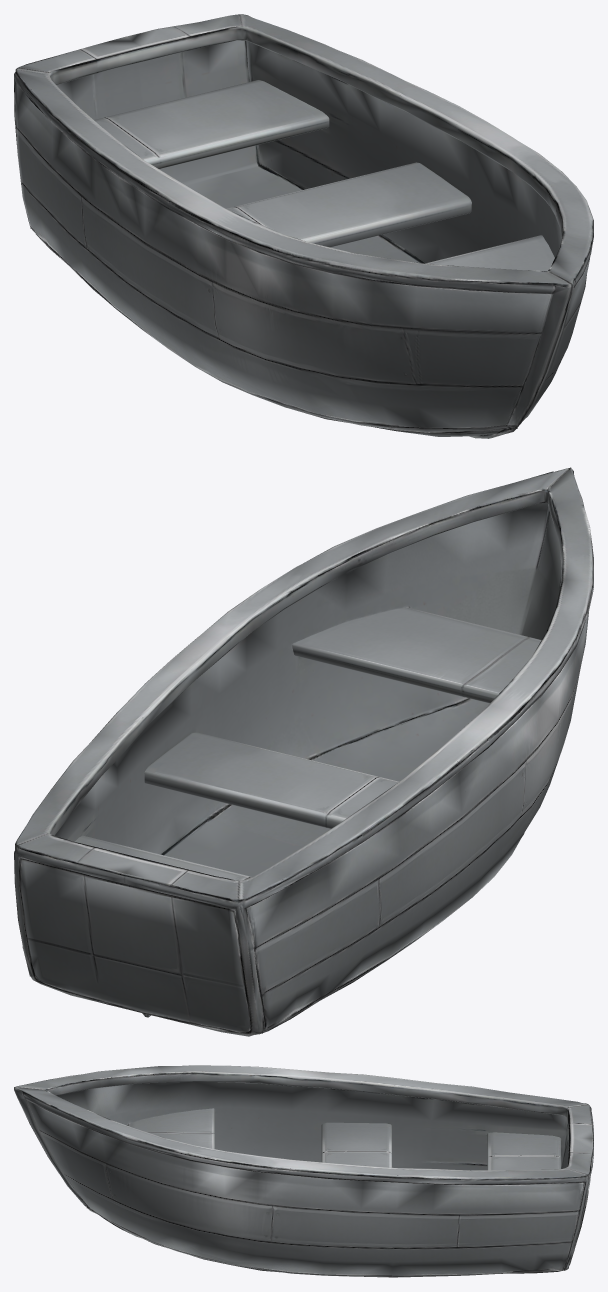
File: Iron_Boat_01.fbx
3 views of the same model, one above another, from view 1: azimuth 30°, elevation 25°; view 2: azimuth 150°, elevation 25°; view 3: azimuth 270°, elevation 25° (orthographic). The views are drawn at different scales.
Visible parts, largest first — view 1: Iron_Boat_01; view 2: Iron_Boat_01; view 3: Iron_Boat_01.
Boxes of the visible parts, left/top/right/bottom form: Iron_Boat_01: left=14, top=14, right=593, bottom=438; Iron_Boat_01: left=14, top=467, right=593, bottom=1036; Iron_Boat_01: left=14, top=1065, right=593, bottom=1277.
Size of the model in its own units: 495 by 354 by 1198.
